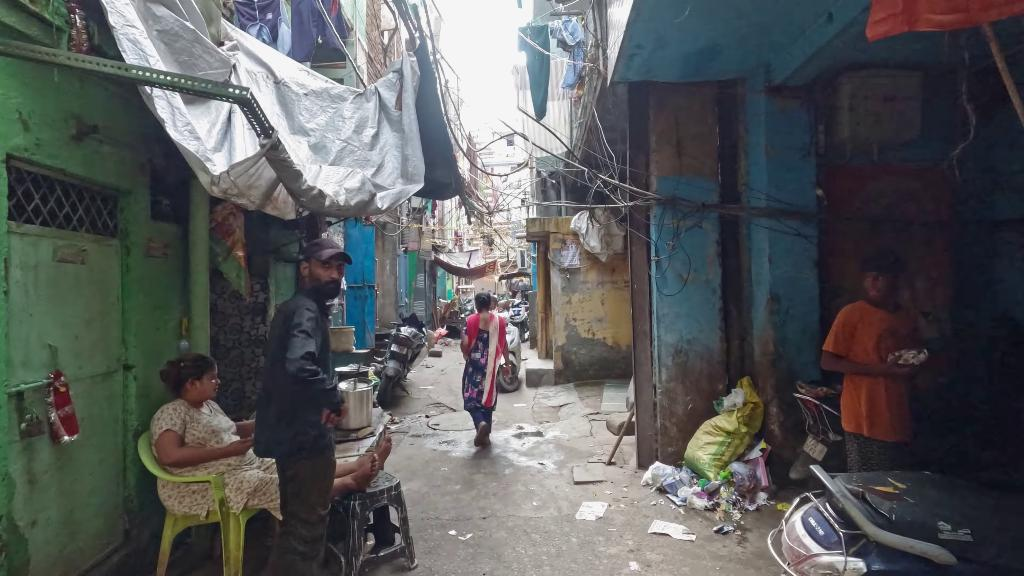garbage: (638, 458, 673, 490), (725, 458, 756, 490), (712, 387, 747, 414), (574, 499, 608, 525), (677, 487, 710, 510)
